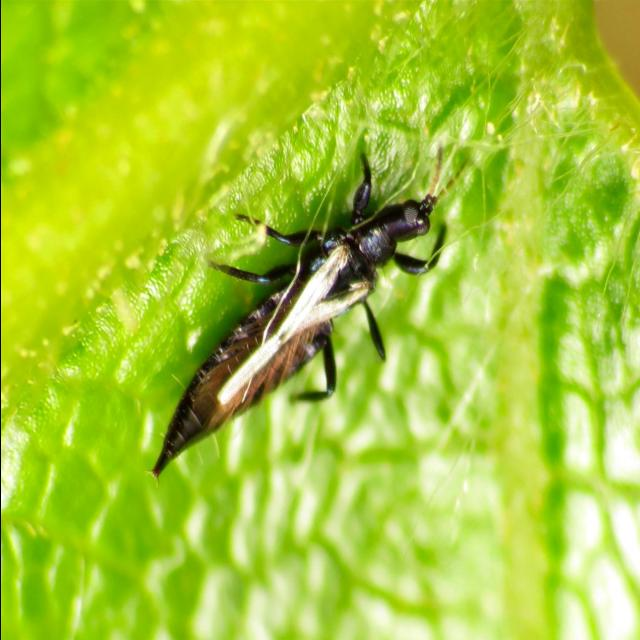thrip: (142, 152, 488, 494)
